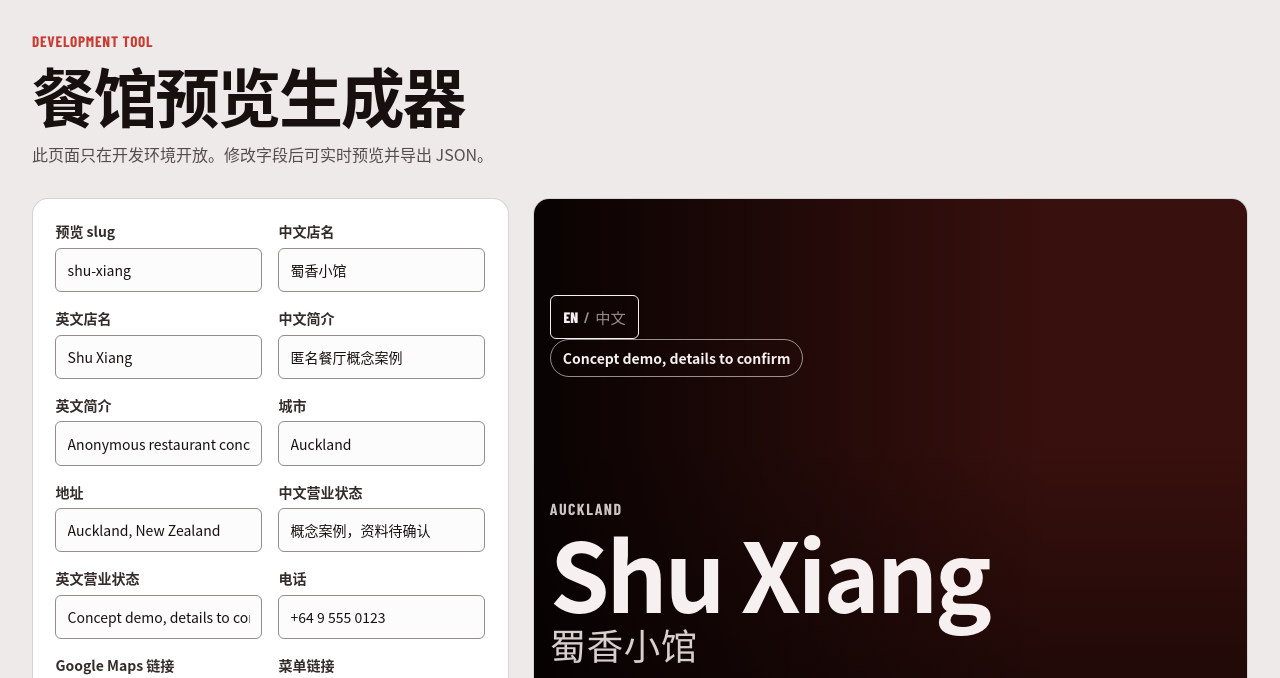
Test: StudioPage › updates the live preview and export JSON from form fields
The width and height of the screenshot is (1280, 678).
Replace the text in the field labelled "中文店名" with "金味坊". click: (382, 270)
box: [278, 248, 485, 292]
(page scrolled)
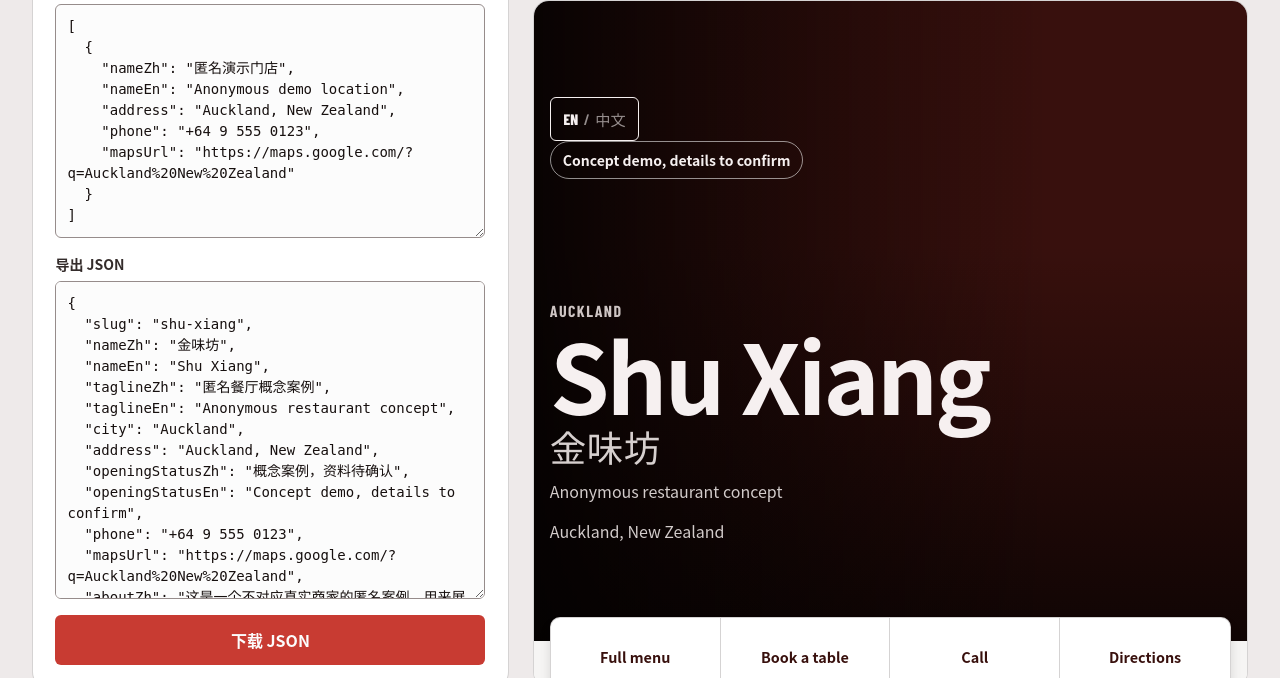
Now the heading "Shu Xiang 金味坊" is shown, box [550, 330, 989, 466]
Now the button "下载 JSON" is enabled, box [55, 615, 485, 665]
